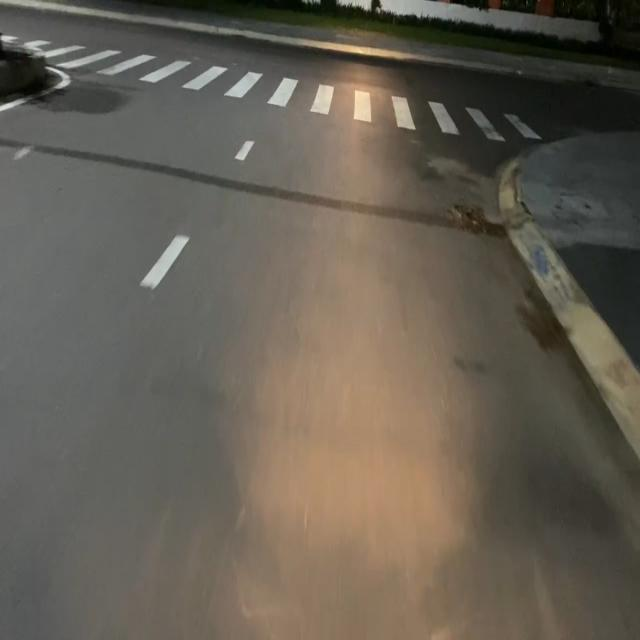walk-crossing: (50, 38, 544, 154)
